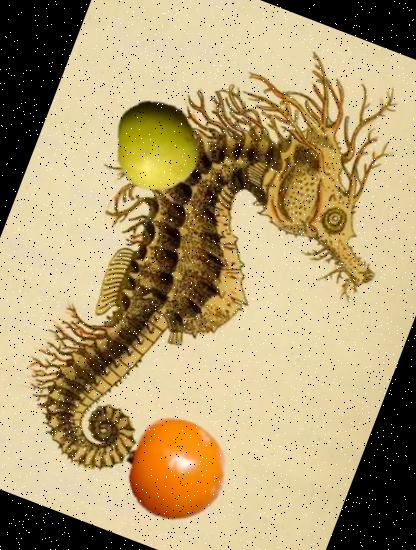Apple: (96, 86, 214, 204)
Tomato: (108, 403, 244, 539)
